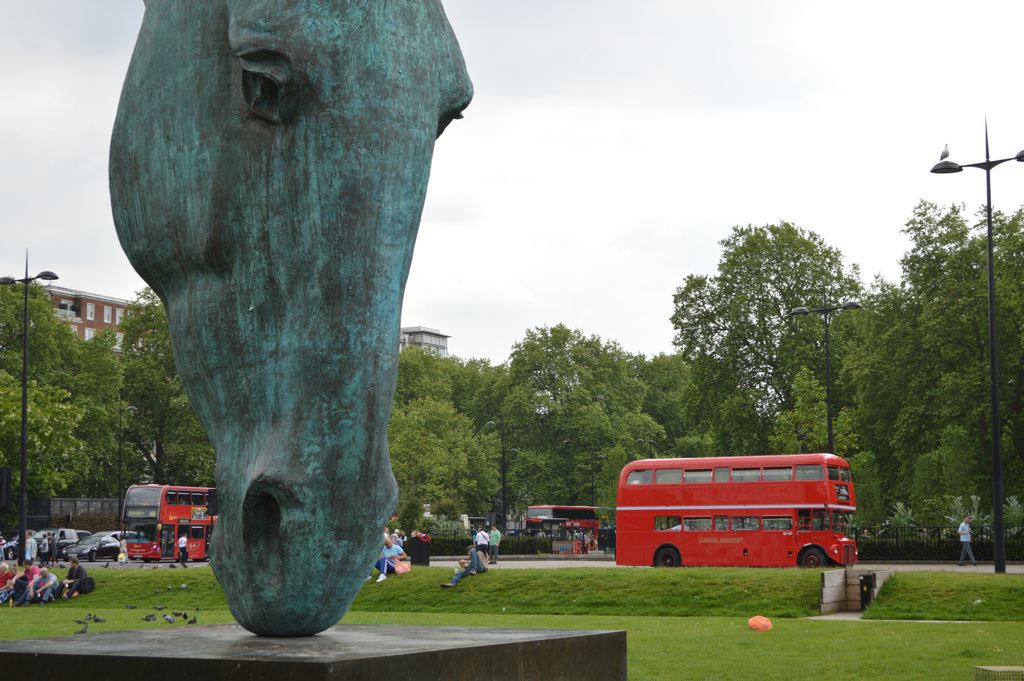Bus: (616, 452, 858, 566), (117, 485, 218, 562), (522, 503, 609, 543)
